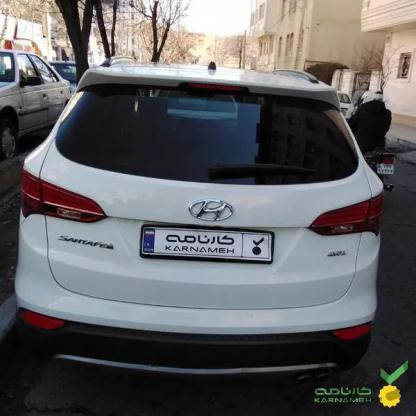Car: (19, 66, 376, 367), (0, 38, 87, 142)
